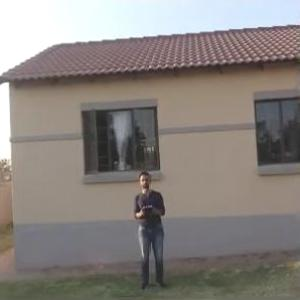follow: (130, 167, 173, 293)
